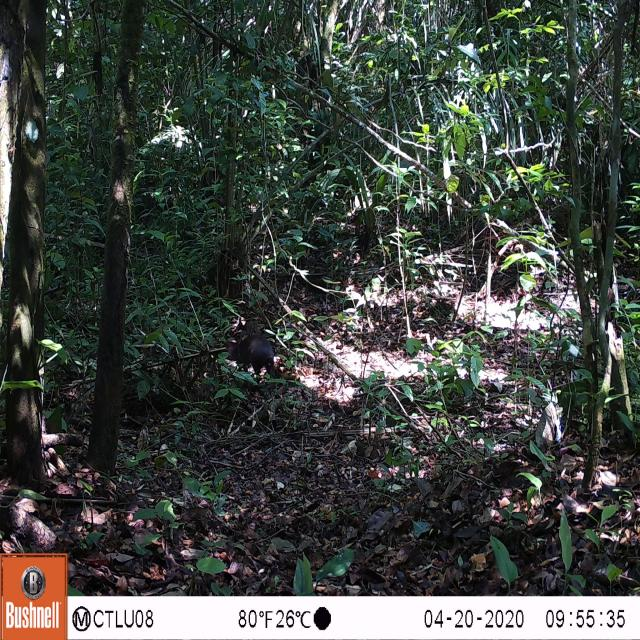Black Agouti: (223, 323, 287, 393)
